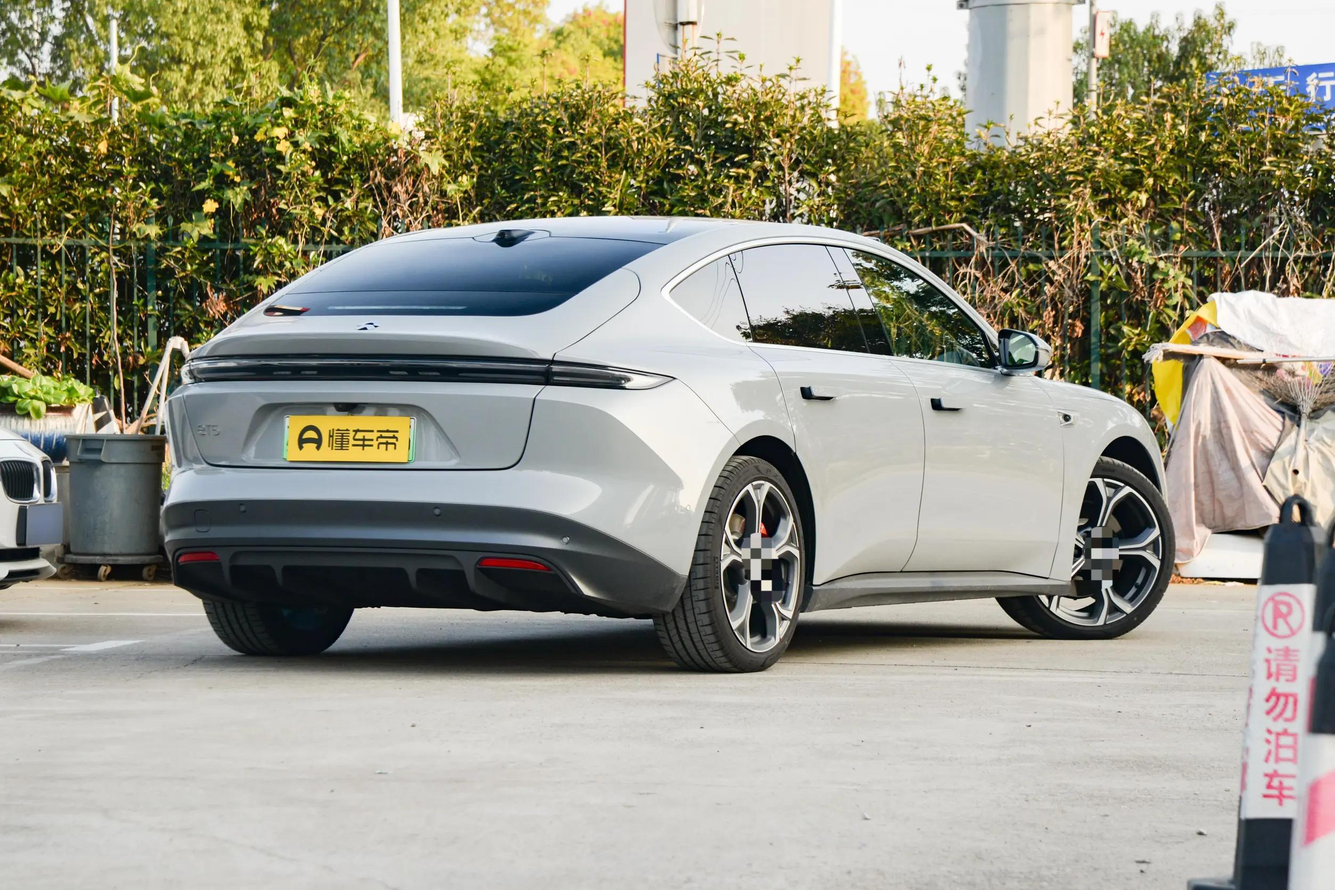NIO: (355, 320, 379, 332)
